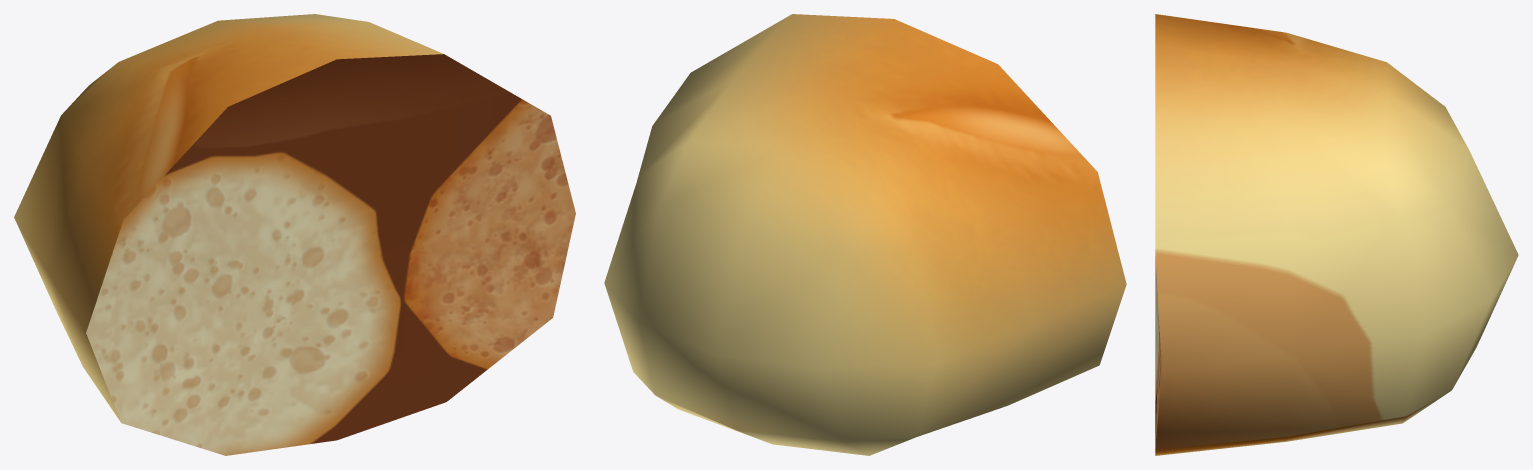
File: French_02_End.fbx
The picture shows the model from 3 angles, left to right: view 1: azimuth 30°, elevation 25°; view 2: azimuth 150°, elevation 25°; view 3: azimuth 270°, elevation 25°; orthographic projection. The views are drawn at different scales.
Parts seen in each view (by area): view 1: French_02_End; view 2: French_02_End; view 3: French_02_End.
Boxes of the visible parts, x1,y1,x2,y2 form: French_02_End: [14, 14, 575, 455]; French_02_End: [604, 14, 1126, 455]; French_02_End: [1155, 14, 1518, 455].
Bounding box in the file's own units: 34.01 × 25.28 × 22.51.
